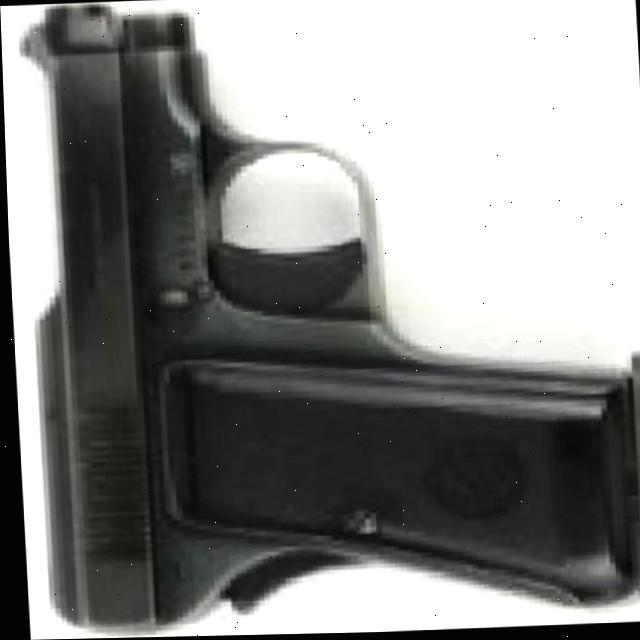gun: (4, 0, 640, 636)
